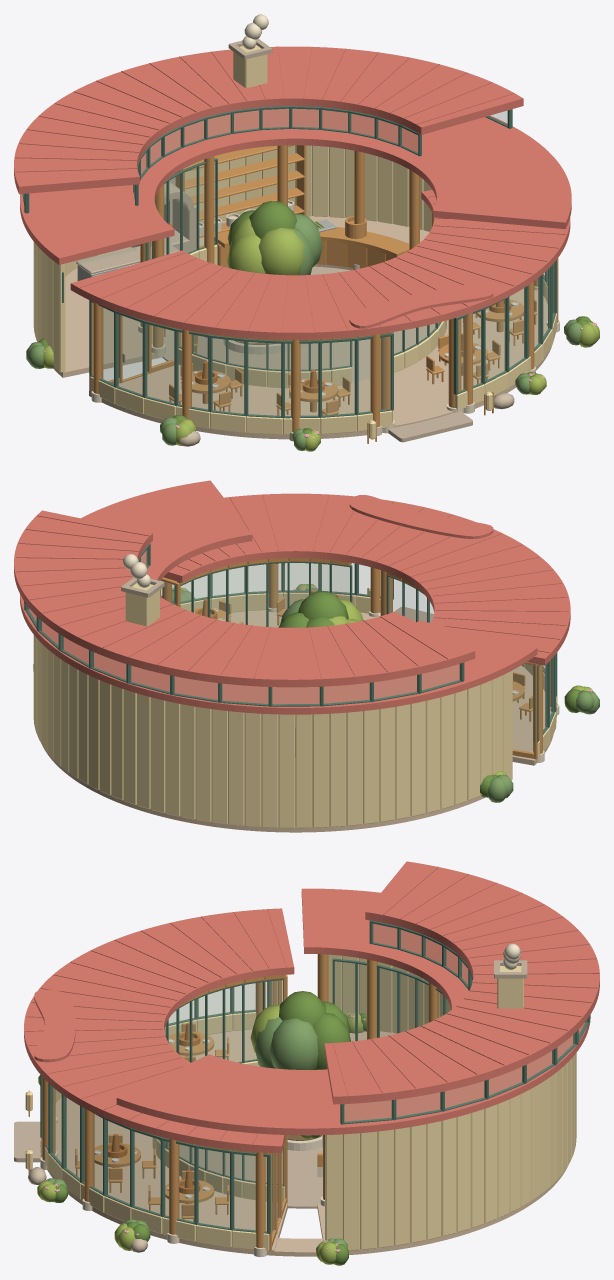
3 views of the same model, one above another, from view 1: azimuth 30°, elevation 25°; view 2: azimuth 150°, elevation 25°; view 3: azimuth 270°, elevation 25° (orthographic). The views are drawn at different scales.
Visible parts, largest first — view 1: R 后弧抬升主红屋顶, R 后弧低红檐与回廊, R 前弧珊瑚红曲屋盖, A 前厅曲面绿框玻璃, A 后厨外弧奶油墙, S 前弧餐厅室内地板, A 前厅曲面奶油墙裙, A 高低屋盖间连续采光缝, L 乔木 · 枝干与树冠, A 前弧木柱, S 后弧厨房室内地板, A 后弧粗木柱 (+18 smaller); view 2: A 后厨外弧奶油墙, R 后弧抬升主红屋顶, R 前弧珊瑚红曲屋盖, R 后弧低红檐与回廊, A 前厅曲面绿框玻璃, A 高低屋盖间连续采光缝, R 后弧屋面细板缝, A 餐厅端部围护, R 独立门头弧檐, R 前弧屋面细板缝, S 前弧餐厅室内地板, L 乔木 · 枝干与树冠 (+8 smaller); view 3: R 后弧抬升主红屋顶, A 后厨外弧奶油墙, R 前弧珊瑚红曲屋盖, R 后弧低红檐与回廊, A 前厅曲面绿框玻璃, S 前弧餐厅室内地板, A 高低屋盖间连续采光缝, A 前厅曲面奶油墙裙, L 乔木 · 枝干与树冠, A 烤鸭展示曲面玻璃, A 前弧木柱, S 庭院局部石地面 (+14 smaller).
Part boxes in pixels (box(x1,y1,x2,y2)): R 后弧抬升主红屋顶: box(14, 46, 523, 194); R 后弧低红檐与回廊: box(20, 108, 571, 264); R 前弧珊瑚红曲屋盖: box(70, 190, 570, 339); A 前厅曲面绿框玻璃: box(89, 260, 556, 418); A 后厨外弧奶油墙: box(33, 145, 432, 372); S 前弧餐厅室内地板: box(89, 288, 551, 439); A 前厅曲面奶油墙裙: box(90, 278, 556, 434); A 高低屋盖间连续采光缝: box(22, 106, 512, 213); L 乔木 · 枝干与树冠: box(227, 201, 322, 275); A 前弧木柱: box(93, 258, 558, 432); S 后弧厨房室内地板: box(53, 215, 429, 377); A 后弧粗木柱: box(140, 145, 419, 347); A 后厨外弧奶油墙: box(33, 635, 512, 828); R 后弧抬升主红屋顶: box(14, 510, 475, 687); R 前弧珊瑚红曲屋盖: box(164, 493, 570, 665); R 后弧低红檐与回廊: box(20, 480, 537, 714); A 前厅曲面绿框玻璃: box(161, 561, 557, 742); A 高低屋盖间连续采光缝: box(24, 543, 464, 706); R 后弧屋面细板缝: box(15, 515, 447, 678); A 餐厅端部围护: box(161, 577, 537, 759); R 独立门头弧檐: box(349, 495, 493, 538); R 前弧屋面细板缝: box(177, 494, 569, 652); S 前弧餐厅室内地板: box(229, 609, 553, 765); L 乔木 · 枝干与树冠: box(278, 591, 363, 627); R 后弧抬升主红屋顶: box(324, 861, 599, 1104); A 后厨外弧奶油墙: box(325, 954, 576, 1250); R 前弧珊瑚红曲屋盖: box(24, 908, 294, 1153); R 后弧低红檐与回廊: box(116, 888, 590, 1135); A 前厅曲面绿框玻璃: box(40, 979, 283, 1233); S 前弧餐厅室内地板: box(40, 1029, 287, 1255); A 高低屋盖间连续采光缝: box(340, 920, 590, 1124); A 前厅曲面奶油墙裙: box(40, 1012, 284, 1250); L 乔木 · 枝干与树冠: box(250, 991, 350, 1069); A 烤鸭展示曲面玻璃: box(332, 958, 450, 1040); A 前弧木柱: box(42, 981, 265, 1247); S 庭院局部石地面: box(165, 1142, 322, 1208).
Size of the model in its own units: 21.75 by 9.61 by 21.97.
